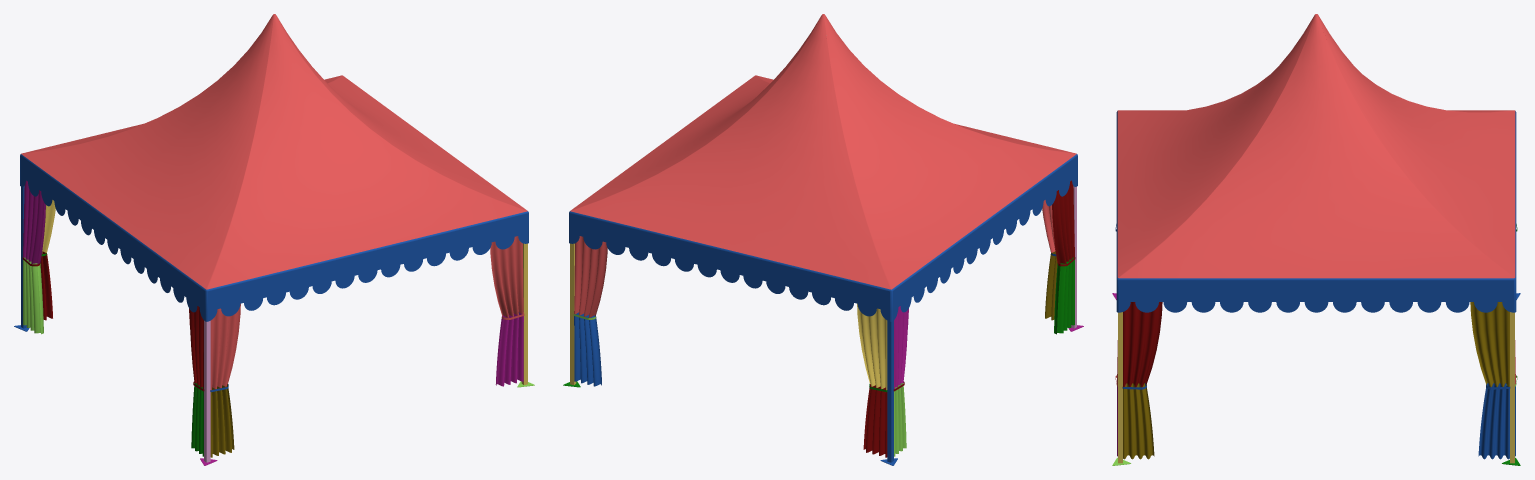
3 views of the same model, side by side, from view 1: azimuth 30°, elevation 25°; view 2: azimuth 150°, elevation 25°; view 3: azimuth 270°, elevation 25° (orthographic). The views are drawn at different scales.
Visible parts, largest first — view 1: Group_001, Group_002, Group_033, Group_031, Group_032, Group_043, Group_030, Group_042, Column_64_5_x_64_5_mm_001, Group_045, Group_044, Column_64_5_x_64_5_mm_004 (+1 smaller); view 2: Group_001, Group_002, Group_039, Group_041, Group_038, Group_045, Group_040, Group_044, Column_64_5_x_64_5_mm_003, Group_043, Group_042, Column_64_5_x_64_5_mm_002 (+1 smaller); view 3: Group_001, Group_002, Group_037, Group_035, Group_036, Group_034, Column_64_5_x_64_5_mm_004, Column_64_5_x_64_5_mm_002.
Boxes of the visible parts, x1,y1,x2,y2 form: Group_001: (21, 14, 527, 289); Group_002: (20, 154, 528, 321); Group_033: (490, 236, 523, 317); Group_031: (210, 303, 240, 390); Group_032: (495, 312, 523, 386); Group_043: (23, 180, 45, 264); Group_030: (210, 384, 234, 457); Group_042: (23, 257, 43, 334); Column_64_5_x_64_5_mm_001: (204, 320, 210, 462); Group_045: (189, 306, 203, 389); Group_044: (191, 383, 203, 456); Column_64_5_x_64_5_mm_004: (521, 243, 527, 384); Group_001: (570, 14, 1076, 289); Group_002: (569, 154, 1077, 321); Group_039: (574, 236, 607, 317); Group_041: (857, 303, 887, 390); Group_038: (574, 312, 601, 386); Group_045: (1052, 180, 1074, 264); Group_040: (863, 384, 887, 457); Group_044: (1054, 257, 1074, 334); Column_64_5_x_64_5_mm_003: (887, 320, 893, 462); Group_043: (894, 306, 908, 389); Group_042: (894, 383, 906, 456); Column_64_5_x_64_5_mm_002: (570, 243, 576, 384); Group_001: (1117, 14, 1515, 278); Group_002: (1116, 111, 1516, 312); Group_037: (1470, 302, 1509, 386); Group_035: (1123, 302, 1162, 386); Group_036: (1478, 383, 1509, 459); Group_034: (1123, 383, 1154, 459); Column_64_5_x_64_5_mm_004: (1118, 312, 1122, 463); Column_64_5_x_64_5_mm_002: (1510, 312, 1514, 463).
Size of the model in its own units: 202 by 200 by 202.
